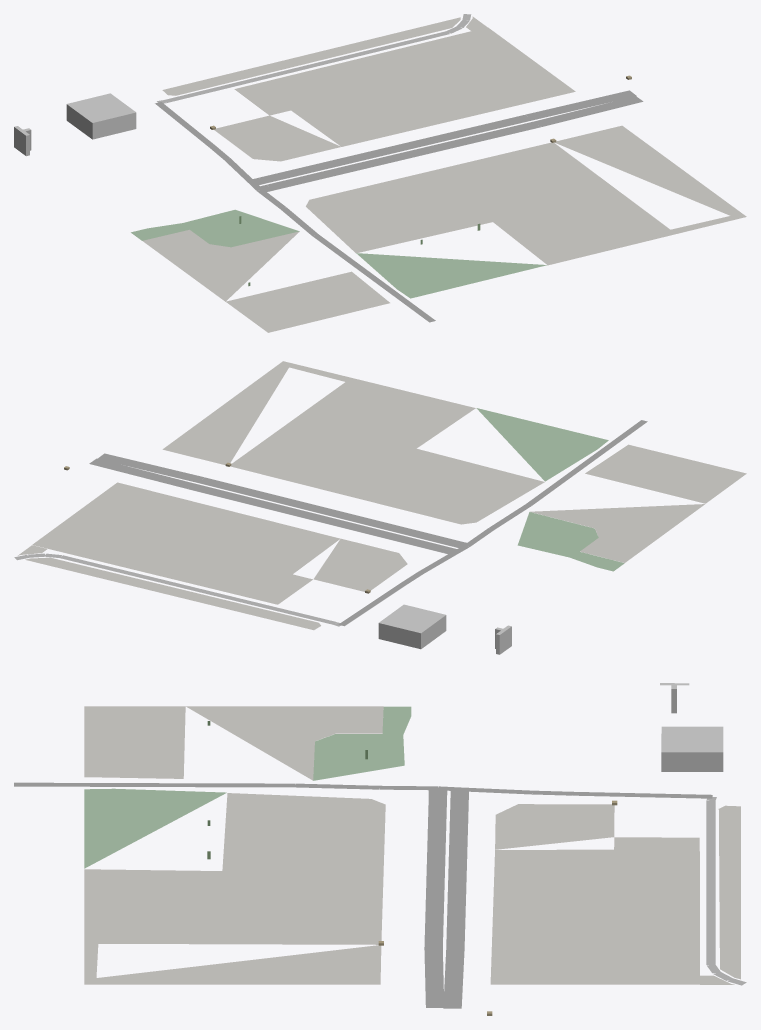
The picture shows the model from 3 angles, top to bottom: view 1: azimuth 30°, elevation 25°; view 2: azimuth 150°, elevation 25°; view 3: azimuth 270°, elevation 25°; orthographic projection. The views are drawn at different scales.
Bounding box in the file's own units: 557 × 20.63 × 558.
